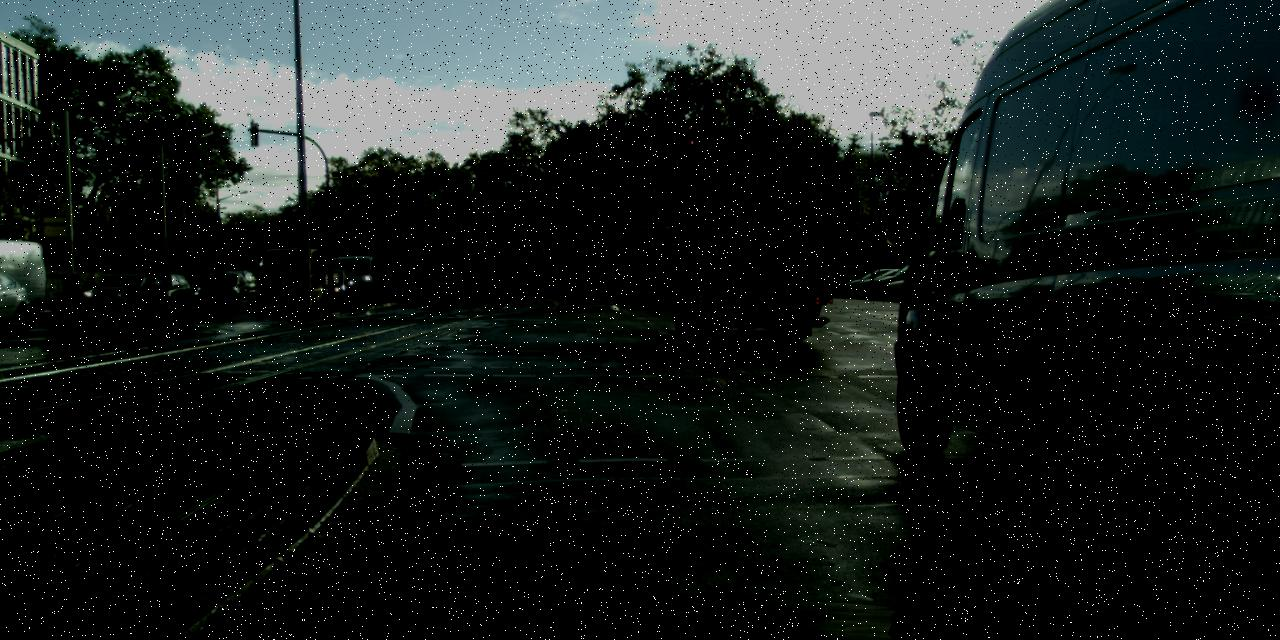ped: (196, 272, 206, 297)
